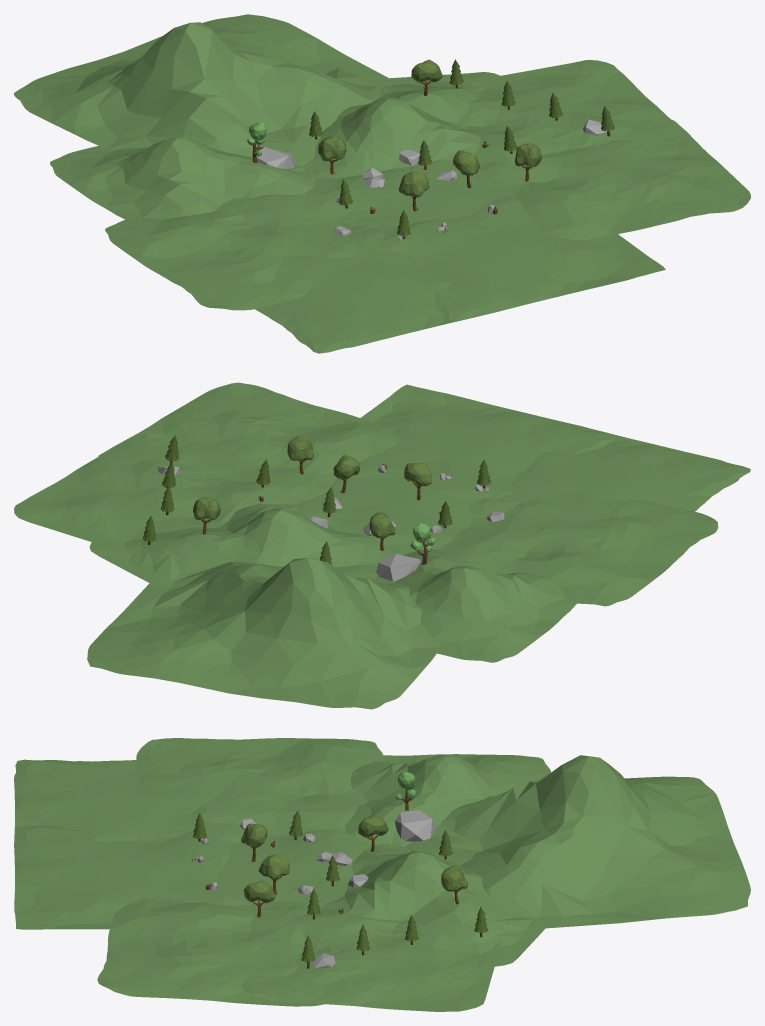
File: Stage.fbx
3 views of the same model, one above another, from view 1: azimuth 30°, elevation 25°; view 2: azimuth 150°, elevation 25°; view 3: azimuth 270°, elevation 25° (orthographic).
Parts seen in each view (by area): view 1: Ground_02__2_, Ground_01, Ground_01__2_, Ground_03__1_, Ground_01__1_, Ground_03__2_, Ground_02, Ground_02__1_, Ground_03, Tree_03, Tree_03__3_, Tree_03__4_ (+3 smaller); view 2: Ground_02__2_, Ground_01, Ground_01__2_, Ground_03__1_, Ground_01__1_, Ground_03__2_, Ground_02, Ground_02__1_, Ground_03, Rock_03__2_, Tree_03__4_, Tree_03__2_ (+4 smaller); view 3: Ground_02__2_, Ground_01__2_, Ground_01, Ground_03__1_, Ground_01__1_, Ground_03__2_, Ground_02__1_, Ground_02, Ground_03, Rock_03__2_, Tree_03__1_, Tree_03__2_ (+4 smaller).
Part boxes in pixels (box(x1,y1,x2,y2)): Ground_02__2_: box(14, 14, 388, 166); Ground_01: box(105, 193, 357, 310); Ground_01__2_: box(473, 119, 750, 239); Ground_03__1_: box(354, 196, 665, 320); Ground_01__1_: box(446, 60, 689, 165); Ground_03__2_: box(255, 225, 485, 353); Ground_02: box(50, 137, 315, 219); Ground_02__1_: box(302, 72, 500, 179); Ground_03: box(306, 159, 507, 262); Tree_03: box(398, 171, 429, 211); Tree_03__3_: box(318, 136, 346, 174); Tree_03__4_: box(411, 59, 442, 96); Ground_02__2_: box(87, 558, 441, 709); Ground_01: box(436, 499, 718, 606); Ground_01__2_: box(98, 382, 399, 501); Ground_03__1_: box(351, 384, 615, 518); Ground_01__1_: box(14, 432, 302, 555); Ground_03__2_: box(468, 428, 750, 522); Ground_02: box(395, 549, 576, 662); Ground_02__1_: box(89, 503, 395, 591); Ground_03: box(295, 474, 517, 554); Rock_03__2_: box(376, 554, 420, 581); Tree_03__4_: box(193, 497, 220, 534); Tree_03__2_: box(287, 435, 313, 474); Ground_02__2_: box(405, 755, 750, 928); Ground_01__2_: box(97, 898, 323, 1006); Ground_01: box(136, 738, 383, 836); Ground_03__1_: box(14, 825, 240, 929); Ground_01__1_: box(241, 905, 501, 1011); Ground_03__2_: box(14, 759, 244, 842); Ground_02__1_: box(323, 844, 556, 966); Ground_02: box(345, 754, 550, 846); Ground_03: box(148, 830, 371, 905); Rock_03__2_: box(395, 810, 436, 841); Tree_03__1_: box(258, 854, 289, 894); Tree_03__2_: box(244, 880, 275, 917).
Bounding box in the file's own units: 7727 × 1234 × 8864.
Materials: 1 (1 with a texture image).
